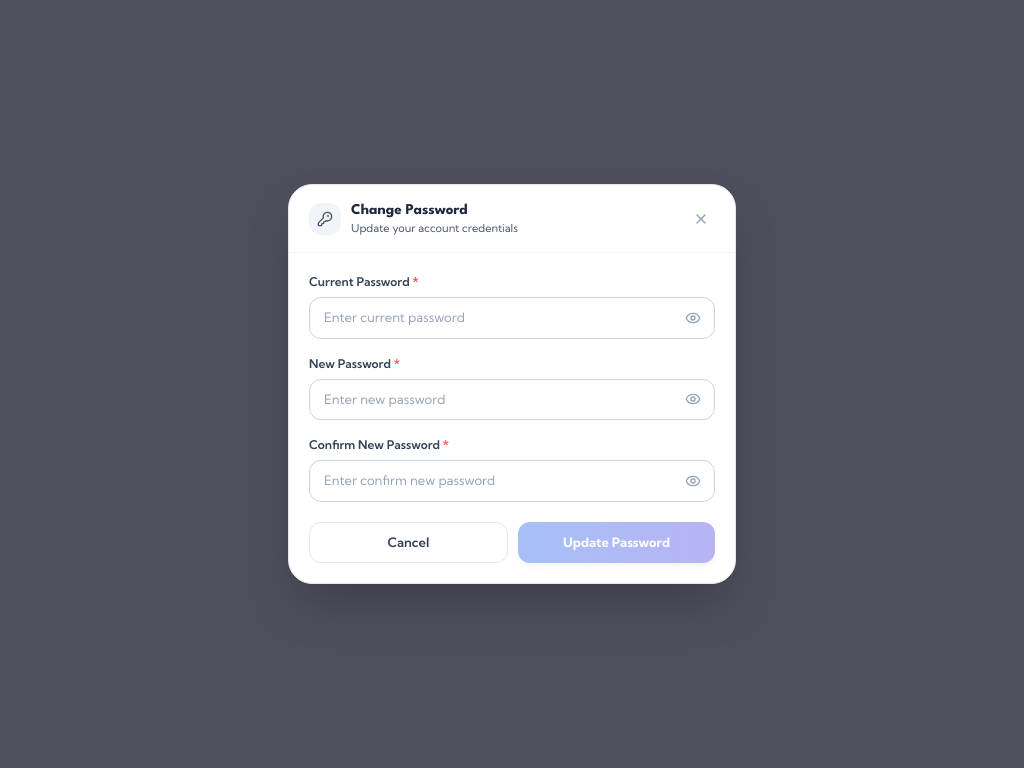
Test case: ChangePasswordModal › password inputs › shows the strength checklist when typing in the new password field
This screenshot has width=1024, height=768.
Type "abc" into the password field with placeholder "Enter new password" at (512, 399), box [309,379,715,420]
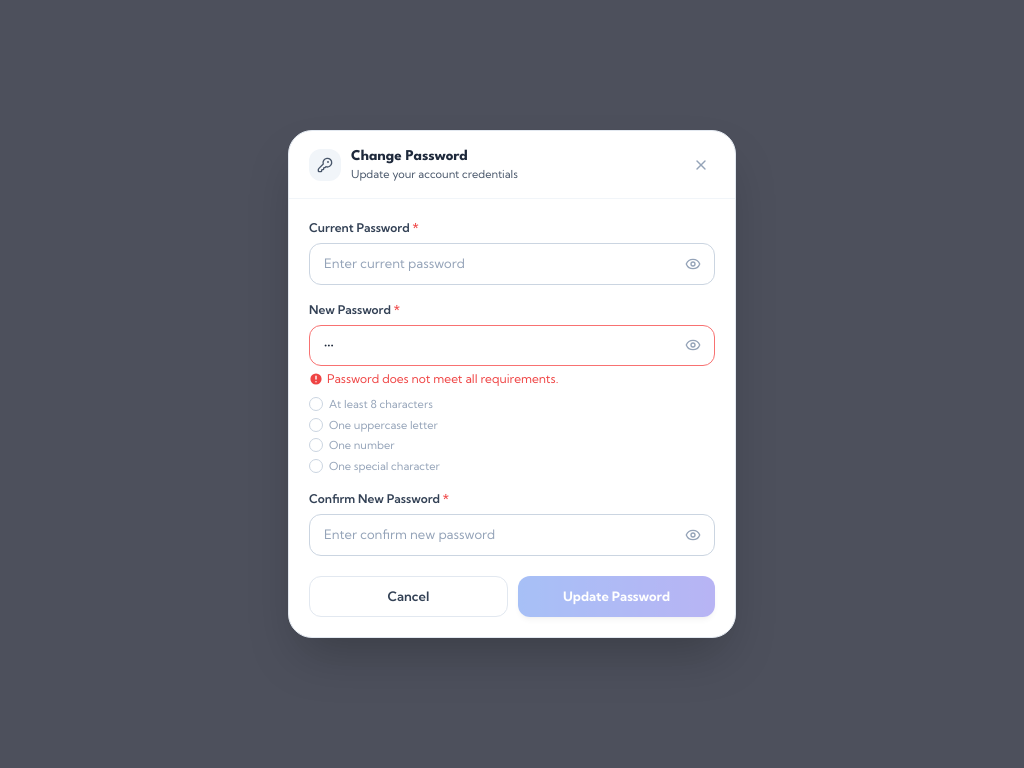
Check: the list item "At least 8 characters" is shown, box [309,397,433,411]
Check: the list item "One uppercase letter" is shown, box [309,418,438,432]
Check: the list item "One number" is shown, box [309,438,394,452]
